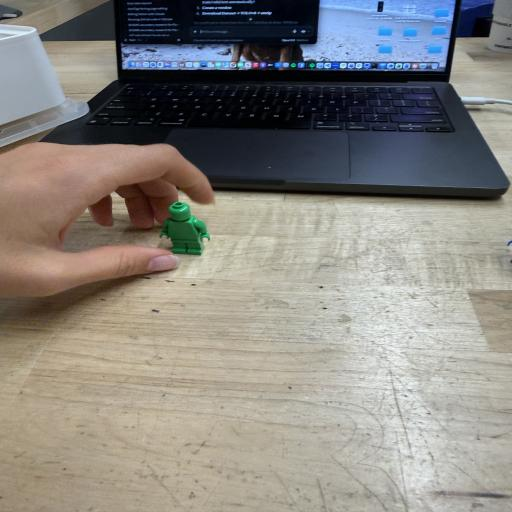green-minifig: (160, 203, 210, 255)
